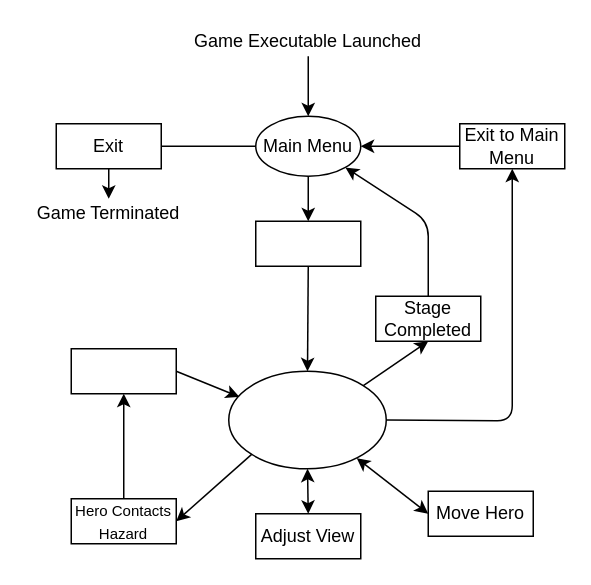
Image size: 591x585. Some labels were removed from this diagram. The shapes that lost their labels are listed below. From the top down, each one's centre as x and y in pixels, then its label:
(307,243): Select Stage
(123,370): Hero is Defeated
(306,419): In-Game
